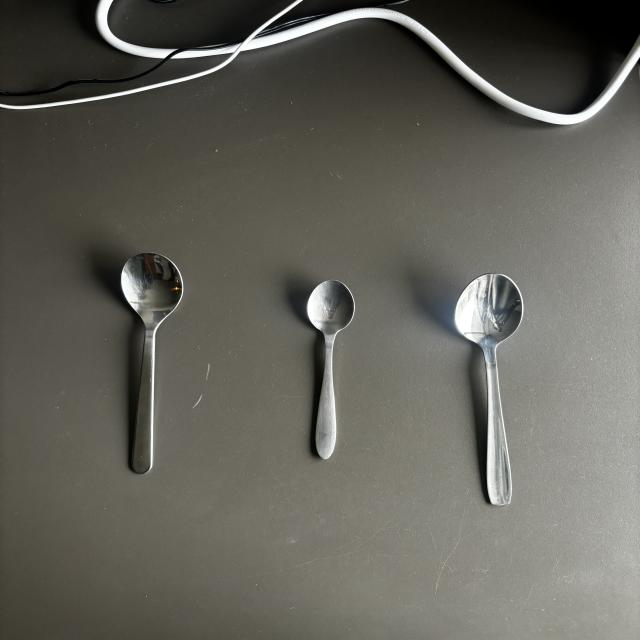spoon: (452, 274, 524, 510), (118, 253, 185, 479), (304, 281, 358, 463)
